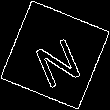N_NW: (26, 24, 84, 86)
